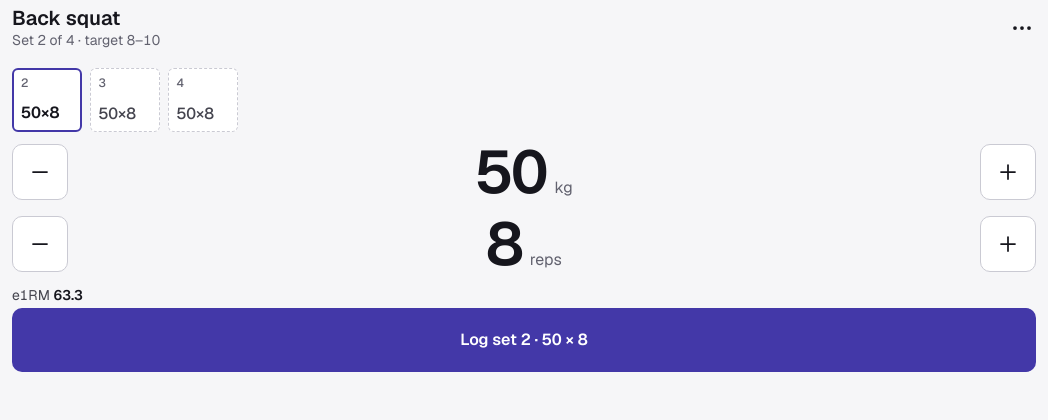
Test case: O5 logging Set 2 of a loaded Exercise still renders the rest timer alongside the confirmation message
Click the button "Log set 2 · 50 × 8": (524, 340) [12,308,1036,372]
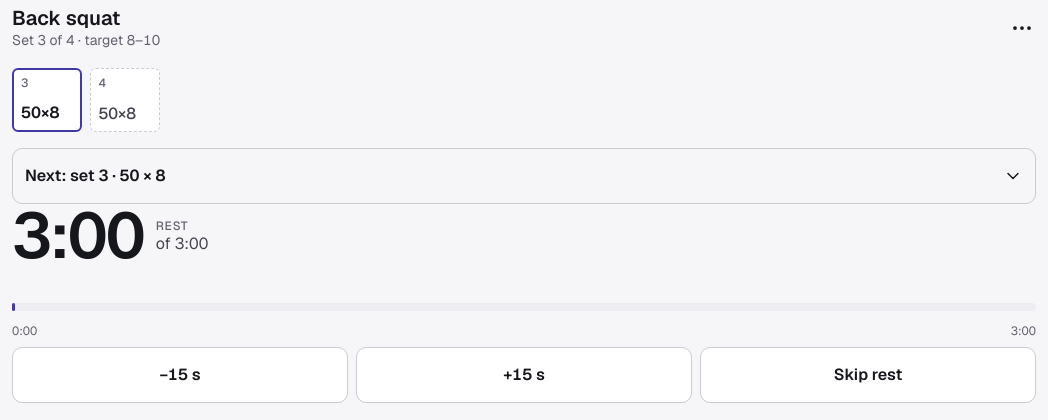
Result: the 1st text "3:00" is shown at [12,194,144,277]
